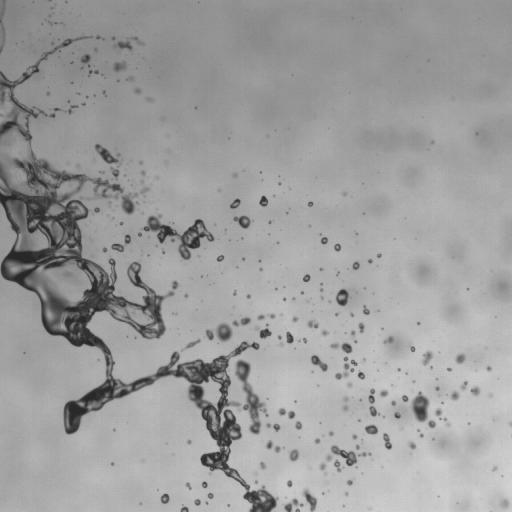droplet: (142, 213, 214, 260), (334, 356, 357, 379), (205, 323, 232, 341), (284, 498, 304, 511), (233, 215, 251, 228), (336, 288, 349, 306), (255, 325, 271, 338), (115, 39, 132, 49), (421, 351, 433, 365), (113, 61, 126, 71), (289, 448, 299, 461), (365, 424, 377, 434), (369, 405, 379, 416), (110, 166, 119, 178), (80, 54, 90, 64), (230, 198, 240, 208), (455, 353, 465, 363), (259, 195, 268, 206), (286, 331, 294, 343), (450, 390, 459, 400), (160, 493, 169, 503), (307, 320, 318, 328), (471, 386, 479, 396), (140, 187, 149, 195), (384, 336, 393, 343), (379, 390, 388, 397), (501, 499, 508, 508), (358, 322, 364, 332), (352, 261, 359, 269), (358, 371, 365, 379), (460, 381, 467, 389), (272, 424, 280, 431), (408, 441, 415, 449), (363, 305, 369, 314), (303, 274, 310, 281), (295, 421, 301, 429), (180, 505, 188, 511), (321, 237, 327, 244), (334, 244, 340, 251), (321, 329, 328, 335), (257, 314, 265, 319), (93, 207, 99, 213), (217, 255, 223, 261), (402, 395, 408, 401), (394, 412, 400, 418), (286, 480, 292, 486), (194, 499, 200, 505), (134, 88, 141, 93), (268, 313, 275, 318), (260, 462, 265, 469), (186, 482, 191, 489), (292, 316, 297, 322), (486, 365, 491, 371), (346, 382, 352, 387), (202, 481, 207, 487), (207, 493, 213, 498), (351, 330, 355, 337), (102, 247, 107, 252), (352, 434, 357, 439), (315, 438, 320, 443), (492, 466, 497, 471), (347, 480, 352, 485), (127, 76, 133, 80), (141, 170, 145, 176), (147, 97, 152, 101), (232, 173, 237, 177), (308, 201, 312, 206), (301, 338, 306, 342), (410, 346, 414, 351), (391, 400, 395, 405), (368, 259, 372, 263), (246, 294, 250, 298), (277, 335, 281, 339), (435, 386, 439, 390), (266, 423, 270, 427), (329, 431, 333, 435), (187, 440, 191, 444), (355, 445, 359, 449), (96, 35, 100, 38), (377, 254, 381, 257), (233, 290, 236, 294), (447, 368, 451, 371), (420, 433, 423, 437), (509, 421, 511, 426), (102, 91, 105, 94), (46, 92, 49, 95), (343, 192, 346, 195), (138, 233, 141, 236), (184, 294, 187, 297), (335, 312, 338, 315), (350, 313, 353, 316), (279, 343, 282, 346), (345, 492, 348, 495), (108, 202, 111, 204), (162, 250, 164, 253), (259, 268, 262, 270), (283, 298, 286, 300), (111, 462, 113, 465), (100, 171, 102, 173), (120, 222, 122, 224), (320, 288, 322, 290), (321, 296, 323, 298), (398, 369, 400, 371), (489, 395, 491, 397), (255, 481, 257, 483)
ligament: (0, 37, 273, 511), (319, 445, 370, 470), (410, 391, 436, 428), (95, 144, 121, 166), (302, 488, 317, 511), (111, 234, 130, 252), (434, 407, 450, 426), (310, 355, 327, 371), (0, 0, 5, 52), (330, 342, 352, 353), (182, 339, 200, 350), (266, 440, 281, 452), (278, 408, 295, 418), (232, 317, 250, 326), (383, 433, 391, 449), (333, 459, 342, 472), (368, 388, 374, 403), (342, 396, 348, 411), (132, 37, 143, 44), (67, 105, 76, 113), (89, 70, 98, 74)
